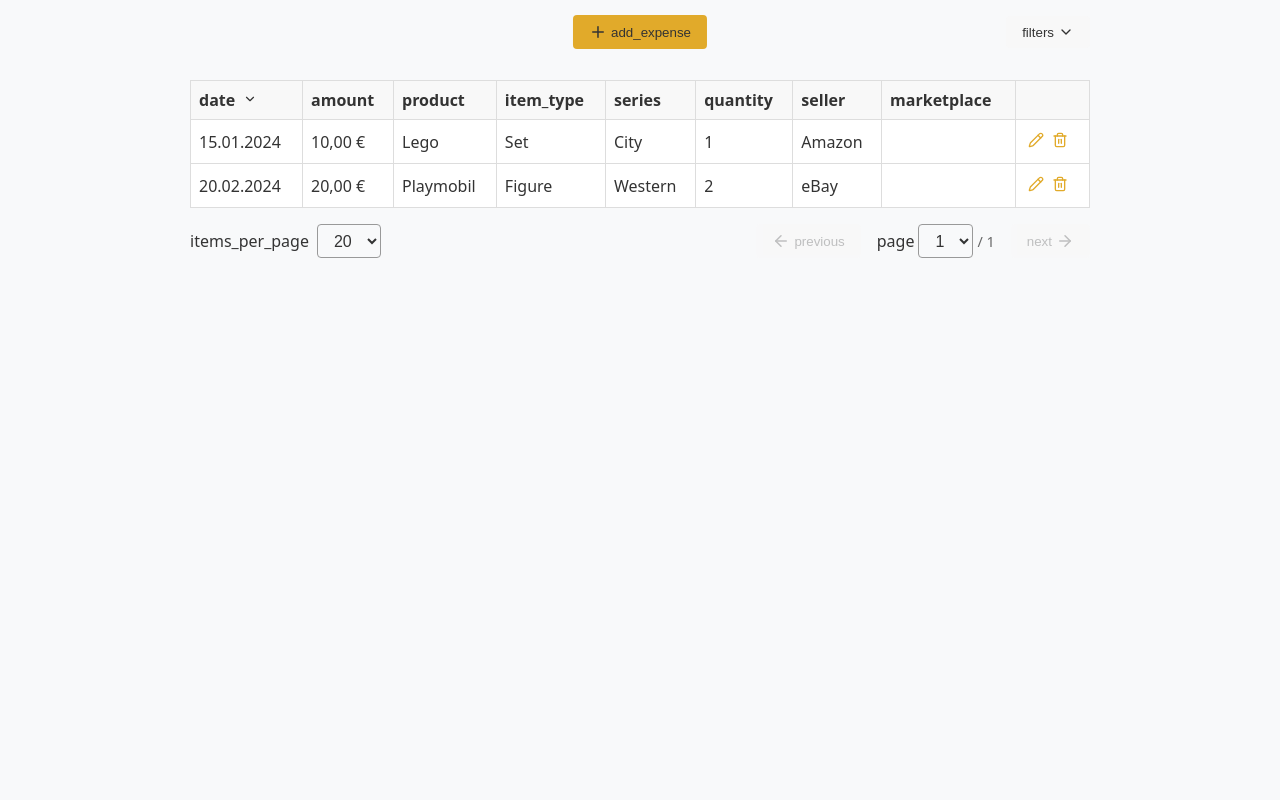
Test: <ExpensesView/> › opens the dialog when the add expense button is clicked
The image size is (1280, 800).
What coordinates should you click on to do the following:
click the button "add_expense"
I would click on:
 (640, 32)
Its box is top-left (573, 15), bottom-right (707, 49).
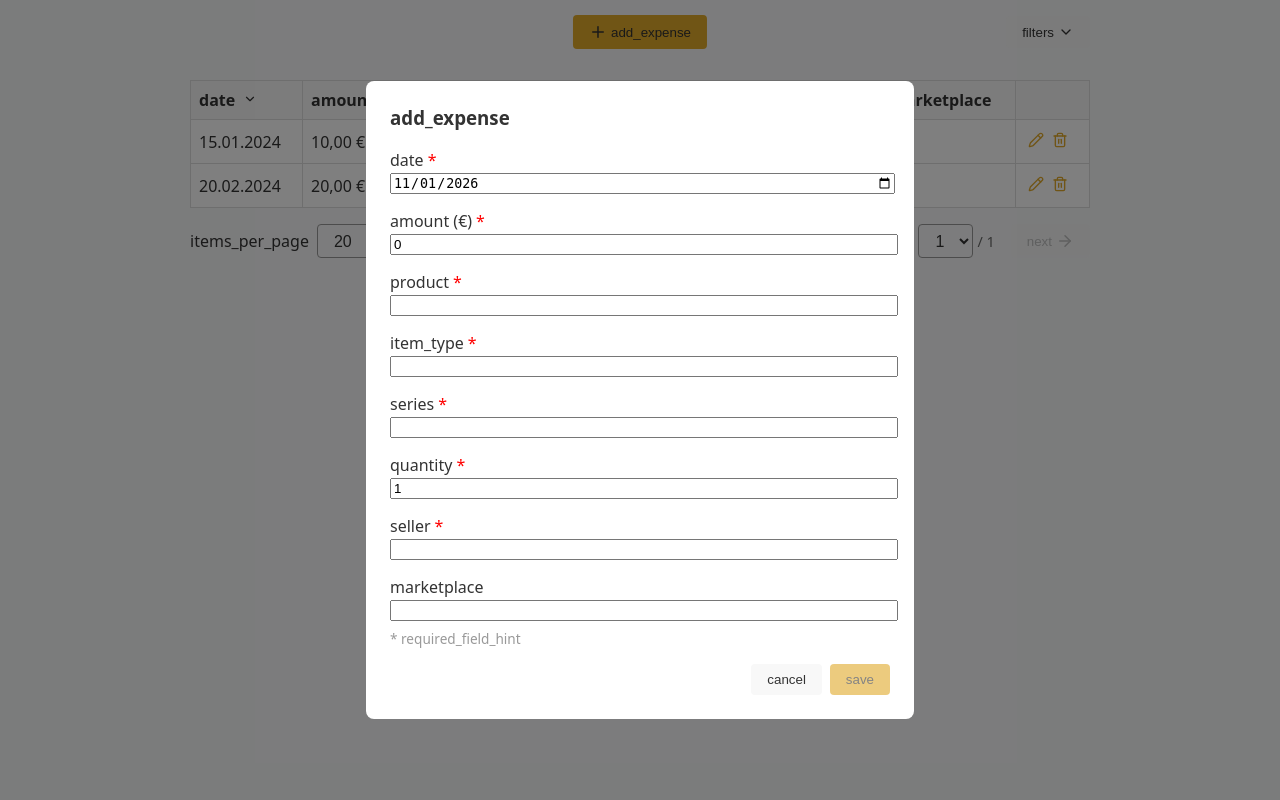
Now the button "save" is shown, box top-left (830, 664), bottom-right (890, 695)
